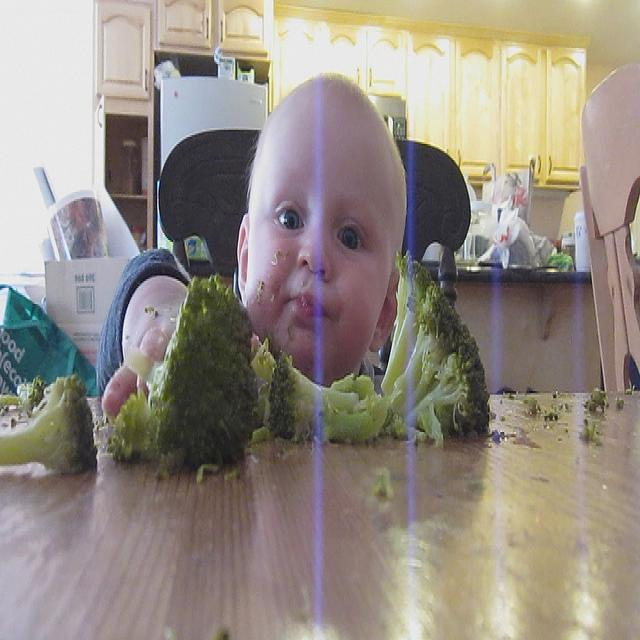chair: (158, 132, 472, 312), (579, 62, 640, 394)
dining table: (0, 384, 640, 633)
